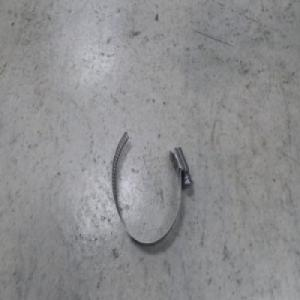AdjustableClamp: (111, 130, 191, 244)
